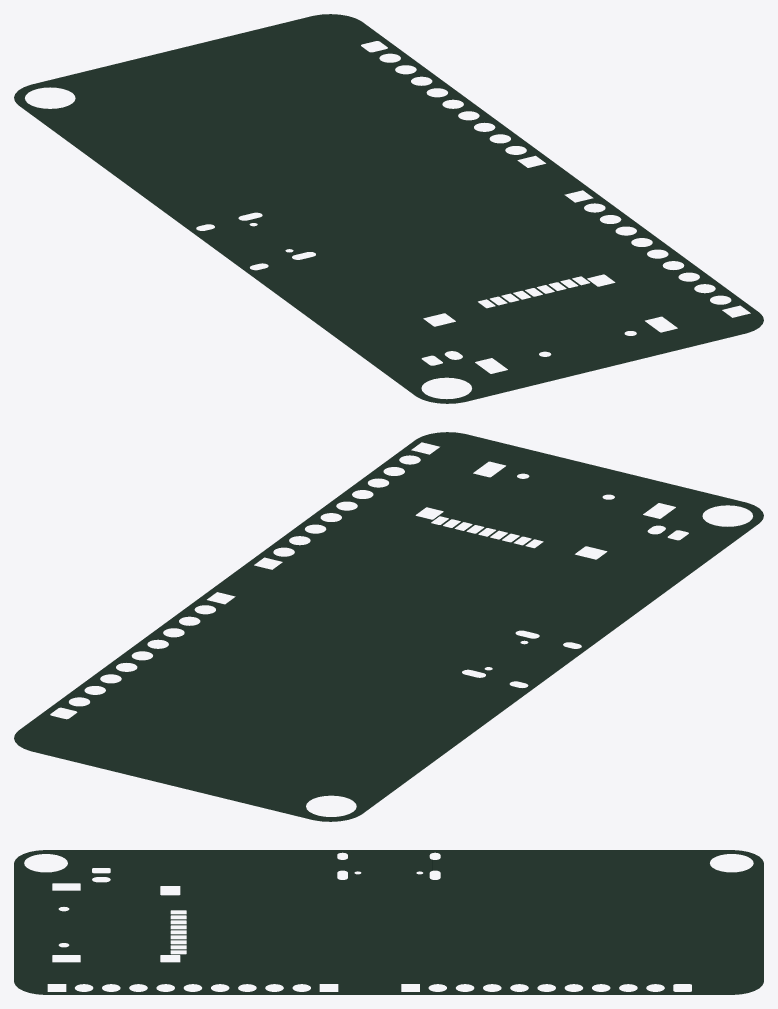
File: board_soldermask_001.obj
3 renders of one model, top to bottom at view 1: azimuth 30°, elevation 25°; view 2: azimuth 150°, elevation 25°; view 3: azimuth 270°, elevation 25°, orthographic. The views are drawn at different scales.
Visible parts, largest first — view 1: =>[0:1:1:31]; view 2: =>[0:1:1:31]; view 3: =>[0:1:1:31].
Part boxes in pixels (bbox=[...]): =>[0:1:1:31]: bbox=[14, 14, 763, 403]; =>[0:1:1:31]: bbox=[14, 432, 763, 821]; =>[0:1:1:31]: bbox=[14, 850, 763, 994].
Bounding box in the file's own units: 0.32 × 0 × 0.7.
